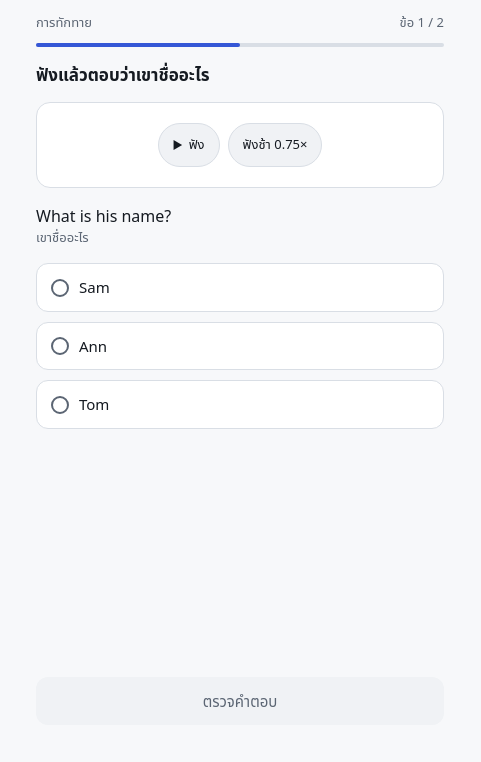
Test: LessonPlayer › has one always-mounted live region whose text changes
This screenshot has width=481, height=762.
What coordinates should you click on to do the following:
click the radio button labelled "Ann"
I would click on:
 (60, 346)
Its box is [36,322,444,370].
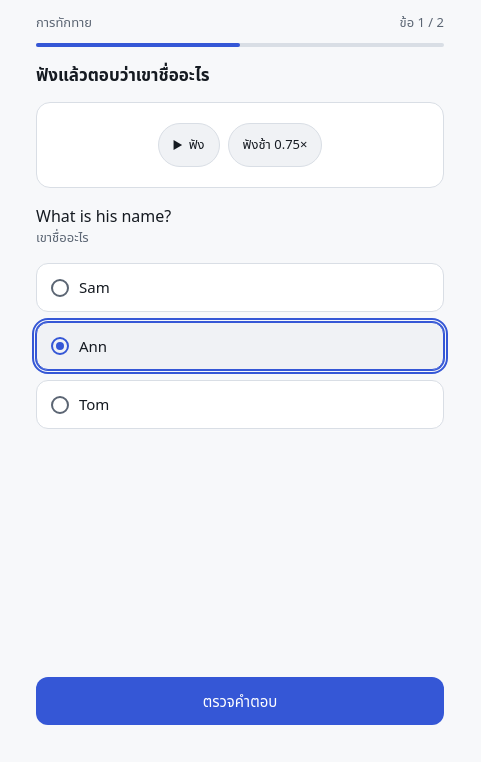
What coordinates should you click on to do the following:
click the button "ตรวจคำตอบ"
I would click on:
 (240, 701)
Its box is [36,676,444,725].
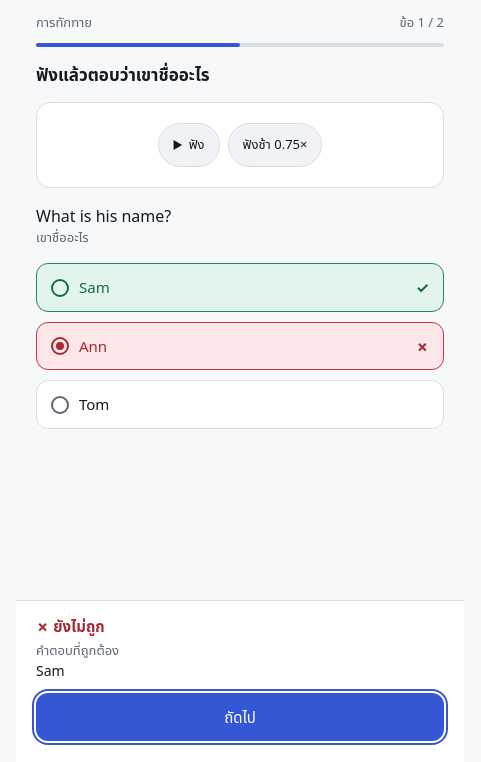
Expected: the message shows "Sam", [36,660,65,680]
